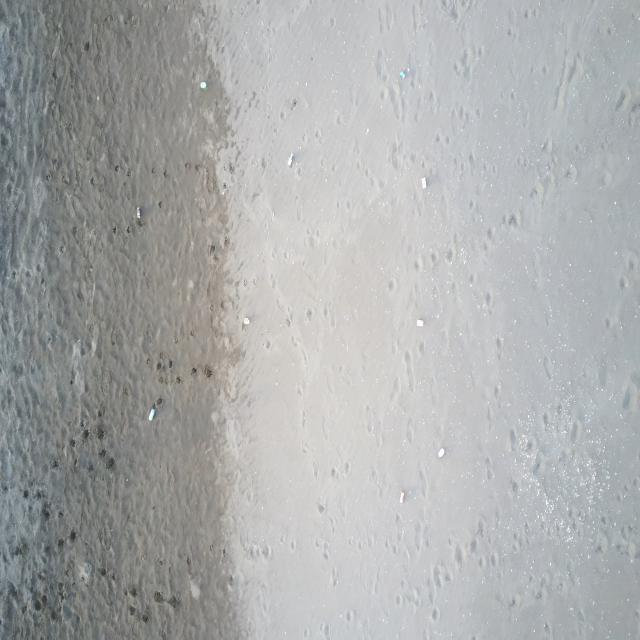Garbage: (77, 564, 91, 583), (188, 577, 200, 599), (148, 404, 156, 420), (287, 152, 293, 167), (420, 176, 427, 188), (400, 70, 409, 79), (436, 448, 444, 456), (136, 207, 140, 223), (416, 318, 423, 326), (200, 80, 206, 88), (400, 491, 404, 503), (400, 70, 406, 77), (243, 316, 248, 324)
